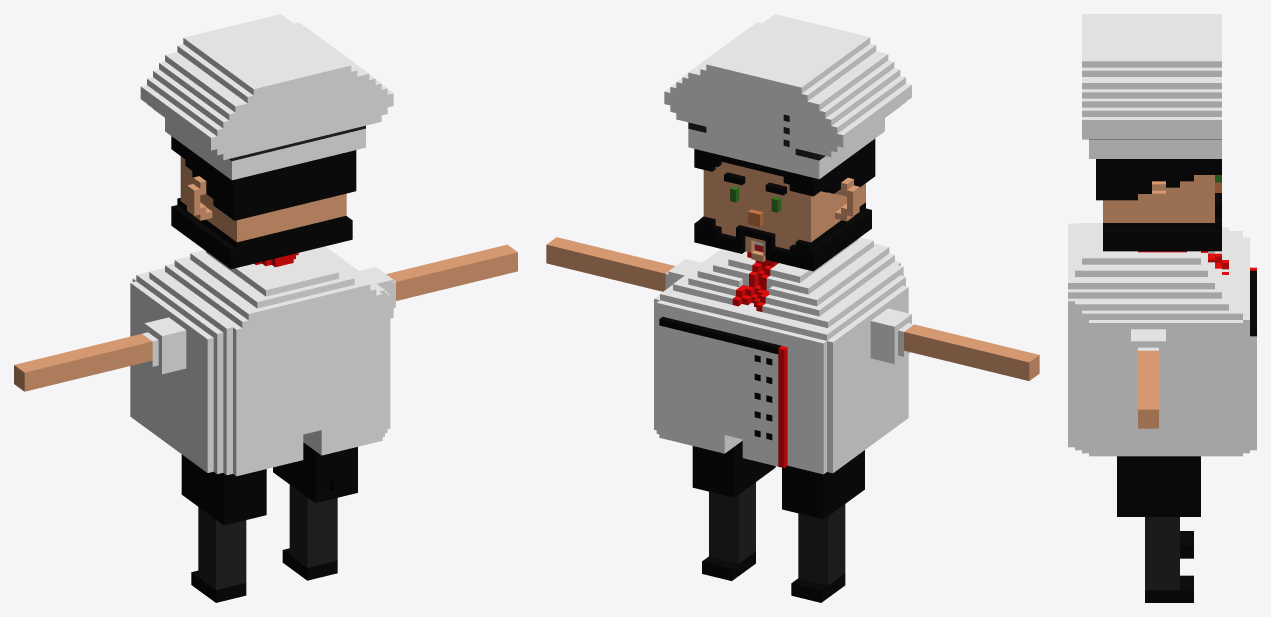
File: Eruption-50.obj
3 renders of one model, left to right at view 1: azimuth 30°, elevation 25°; view 2: azimuth 150°, elevation 25°; view 3: azimuth 270°, elevation 25°, orthographic. The views are drawn at different scales.
Size of the model in its own units: 8.1 by 8.4 by 2.7.
Materials: 1 (1 with a texture image).
